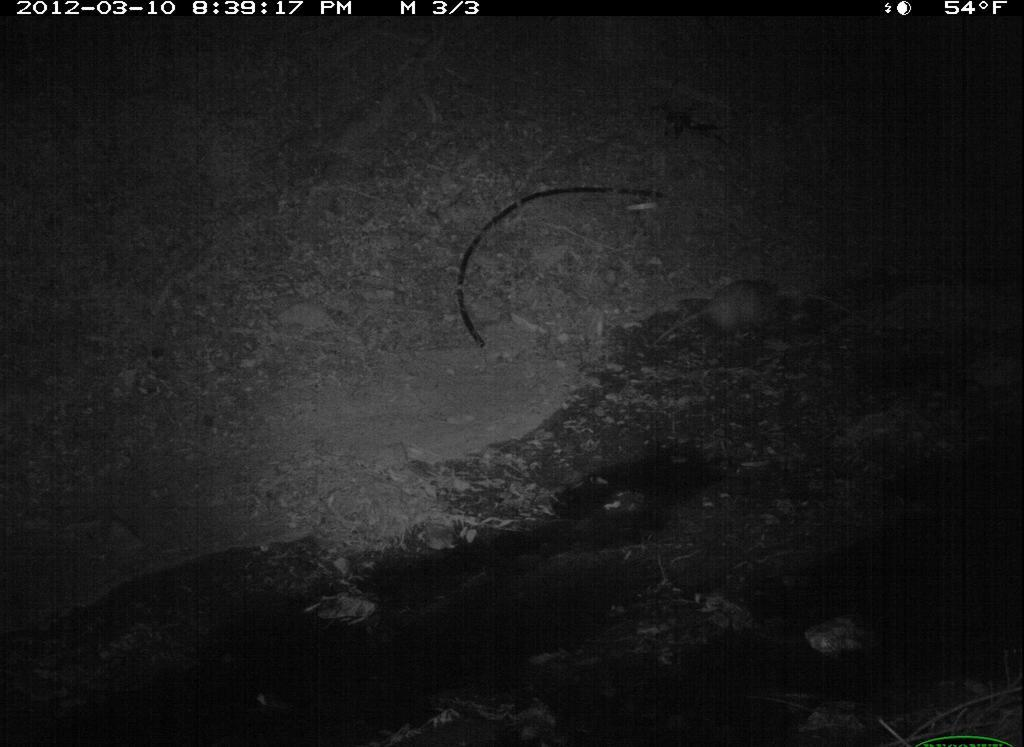opossum: (646, 273, 809, 355)
